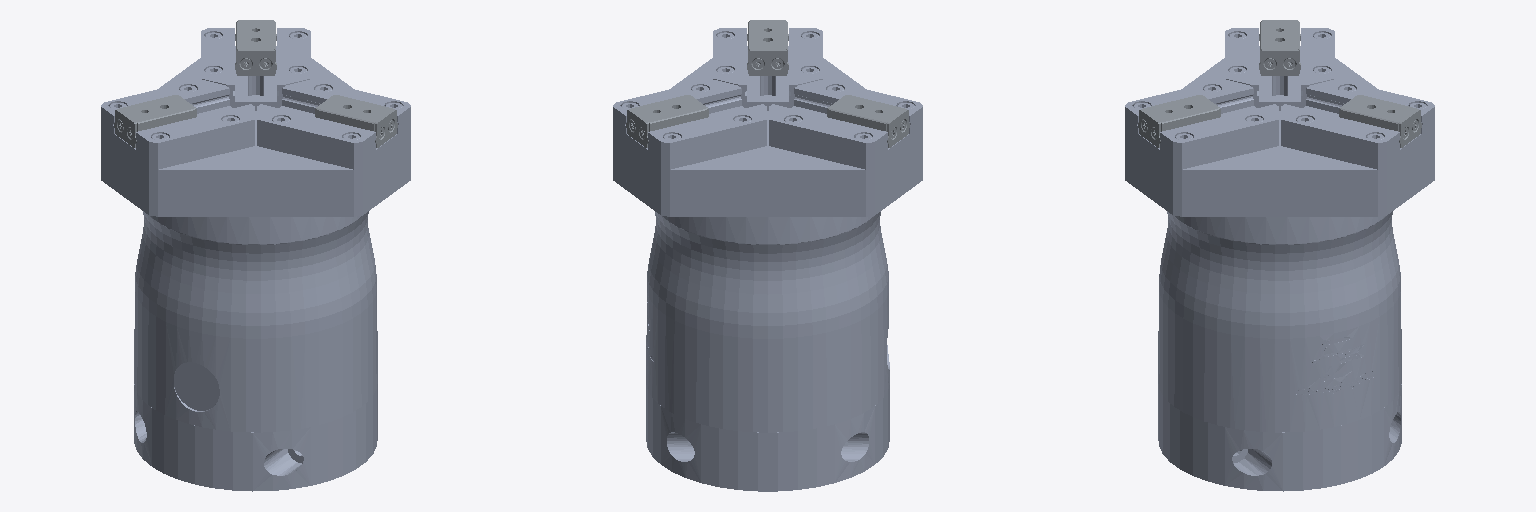
The robot description file, URDF, robot "crt_ctpm3f20e_gripper_visualization":
<?xml version="1.0" encoding="utf-8"?>
<robot
  name="crt_ctpm3f20e_gripper_visualization">
  <link name="world"/>
  <joint name="world_to_base" type="fixed">
    <parent link="world"/>
    <child link="base_link"/>
    <origin xyz="0 0 0.1" rpy="0 0 0"/>
  </joint>
  <link
    name="base_link">
    <inertial>
      <origin
        xyz="2.27144412866413E-05 -0.018537305151962 2.27144412866413E-05"
        rpy="0 0 0" />
      <mass
        value="0.66110522670732" />
      <inertia
        ixx="0.000340520144347979"
        ixy="1.77015051256606E-07"
        ixz="-3.21491606379905E-06"
        iyy="0.000507340758709144"
        iyz="-1.03443756754932E-07"
        izz="0.000336689142317247" />
    </inertial>
    <visual>
      <origin
        xyz="0 0 0"
        rpy="0 0 0" />
      <geometry>
        <mesh
          filename="package://crt_ctpm3f20e_gripper_visualization/meshes/base_link.STL" />
      </geometry>
      <material
        name="">
        <color
          rgba="0.666666666666667 0.698039215686274 0.768627450980392 1" />
      </material>
    </visual>
    <collision>
      <origin
        xyz="0 0 0"
        rpy="0 0 0" />
      <geometry>
        <mesh
          filename="package://crt_ctpm3f20e_gripper_visualization/meshes/base_link.STL" />
      </geometry>
    </collision>
  </link>
  <link
    name="Slide_1_Link">
    <inertial>
      <origin
        xyz="1.04083408558608E-17 -2.1600210825078E-05 0.0110235967884269"
        rpy="0 0 0" />
      <mass
        value="0.0173469729206652" />
      <inertia
        ixx="6.26256675627352E-07"
        ixy="-1.92242851291375E-21"
        ixz="2.07867179212126E-19"
        iyy="7.32887883303786E-07"
        iyz="8.21950215207488E-10"
        izz="3.20085996800568E-07" />
    </inertial>
    <visual>
      <origin
        xyz="0 0 0"
        rpy="0 0 0" />
      <geometry>
        <mesh
          filename="package://crt_ctpm3f20e_gripper_visualization/meshes/Slide_1_Link.STL" />
      </geometry>
      <material
        name="">
        <color
          rgba="0.615686274509804 0.643137254901961 0.674509803921569 1" />
      </material>
    </visual>
    <collision>
      <origin
        xyz="0 0 0"
        rpy="0 0 0" />
      <geometry>
        <mesh
          filename="package://crt_ctpm3f20e_gripper_visualization/meshes/Slide_1_Link.STL" />
      </geometry>
    </collision>
  </link>
  <joint
    name="Slide_1_Joint"
    type="prismatic">
    <origin
      xyz="0.02325 0.04027 0.01547"
      rpy="1.5708 0 -0.5236" />
    <parent
      link="base_link" />
    <child
      link="Slide_1_Link" />
    <axis
      xyz="0 0 -1" />
    <limit
      lower="-0.02"
      upper="0"
      effort="1"
      velocity="1" />
  </joint>
  <link
    name="Slide_2_Link">
    <inertial>
      <origin
        xyz="1.56125112837913E-17 -2.16002108240007E-05 0.0110235967884269"
        rpy="0 0 0" />
      <mass
        value="0.0173469729206652" />
      <inertia
        ixx="6.26256675627351E-07"
        ixy="-1.92997653600331E-21"
        ixz="-2.07999528110134E-19"
        iyy="7.32887883303784E-07"
        iyz="8.21950215207522E-10"
        izz="3.20085996800567E-07" />
    </inertial>
    <visual>
      <origin
        xyz="0 0 0"
        rpy="0 0 0" />
      <geometry>
        <mesh
          filename="package://crt_ctpm3f20e_gripper_visualization/meshes/Slide_2_Link.STL" />
      </geometry>
      <material
        name="">
        <color
          rgba="0.615686274509804 0.643137254901961 0.674509803921569 1" />
      </material>
    </visual>
    <collision>
      <origin
        xyz="0 0 0"
        rpy="0 0 0" />
      <geometry>
        <mesh
          filename="package://crt_ctpm3f20e_gripper_visualization/meshes/Slide_2_Link.STL" />
      </geometry>
    </collision>
  </link>
  <joint
    name="Slide_2_Joint"
    type="prismatic">
    <origin
      xyz="0.02325 -0.04027 0.01547"
      rpy="1.5708 0 -2.618" />
    <parent
      link="base_link" />
    <child
      link="Slide_2_Link" />
    <axis
      xyz="0 0 -1" />
    <limit
      lower="-0.02"
      upper="0"
      effort="1"
      velocity="1" />
    <mimic
      joint="Slide_1_Joint"
      multiplier="1"
      offset="0" />
  </joint>
  <link
    name="Slide_3_Link">
    <inertial>
      <origin
        xyz="-3.18849779485504E-17 -2.16002108397329E-05 0.0110235967884255"
        rpy="0 0 0" />
      <mass
        value="0.0173469729217247" />
      <inertia
        ixx="6.26256675628034E-07"
        ixy="-1.92315692782449E-21"
        ixz="1.25325103592209E-21"
        iyy="7.32887883304453E-07"
        iyz="8.21950215207494E-10"
        izz="3.20085996800567E-07" />
    </inertial>
    <visual>
      <origin
        xyz="0 0 0"
        rpy="0 0 0" />
      <geometry>
        <mesh
          filename="package://crt_ctpm3f20e_gripper_visualization/meshes/Slide_3_Link.STL" />
      </geometry>
      <material
        name="">
        <color
          rgba="0.615686274509804 0.643137254901961 0.674509803921569 1" />
      </material>
    </visual>
    <collision>
      <origin
        xyz="0 0 0"
        rpy="0 0 0" />
      <geometry>
        <mesh
          filename="package://crt_ctpm3f20e_gripper_visualization/meshes/Slide_3_Link.STL" />
      </geometry>
    </collision>
  </link>
  <joint
    name="Slide_3_Joint"
    type="prismatic">
    <origin
      xyz="-0.0465 0 0.01547"
      rpy="1.5708 0 1.5708" />
    <parent
      link="base_link" />
    <child
      link="Slide_3_Link" />
    <axis
      xyz="0 0 1" />
    <limit
      lower="0"
      upper="0.02"
      effort="1"
      velocity="1" />
    <mimic
      joint="Slide_1_Joint"
      multiplier="-1"
      offset="0" />
  </joint>
</robot>

--- Facts derived from the render (not from the file) ---
The picture shows the robot from 3 angles, left to right: view 1: azimuth 30°, elevation 25°; view 2: azimuth 150°, elevation 25°; view 3: azimuth 270°, elevation 25°; orthographic projection.
Model crt_ctpm3f20e_gripper_visualization with 5 links and 4 joints (3 prismatic, 1 fixed), rooted at world, posed every joint at zero.
Visible links, largest first — view 1: base_link, Slide_1_Link, Slide_2_Link, Slide_3_Link; view 2: base_link, Slide_2_Link, Slide_1_Link, Slide_3_Link; view 3: base_link, Slide_3_Link, Slide_1_Link, Slide_2_Link.
Boxes of the visible links, left/top/right/bottom form: base_link: left=101, top=28, right=410, bottom=491; Slide_1_Link: left=235, top=20, right=276, bottom=75; Slide_2_Link: left=315, top=95, right=397, bottom=147; Slide_3_Link: left=114, top=95, right=196, bottom=147; base_link: left=613, top=28, right=922, bottom=491; Slide_2_Link: left=747, top=20, right=788, bottom=75; Slide_1_Link: left=626, top=95, right=708, bottom=147; Slide_3_Link: left=827, top=95, right=909, bottom=147; base_link: left=1125, top=28, right=1434, bottom=491; Slide_3_Link: left=1259, top=20, right=1300, bottom=75; Slide_1_Link: left=1339, top=95, right=1421, bottom=147; Slide_2_Link: left=1138, top=95, right=1220, bottom=147.
Size in the robot's own frame: 0.084 by 0.0955 by 0.1207 metres.
Meshes: 4 distinct files referenced, 4 mesh visuals loaded (4 binary STL).
